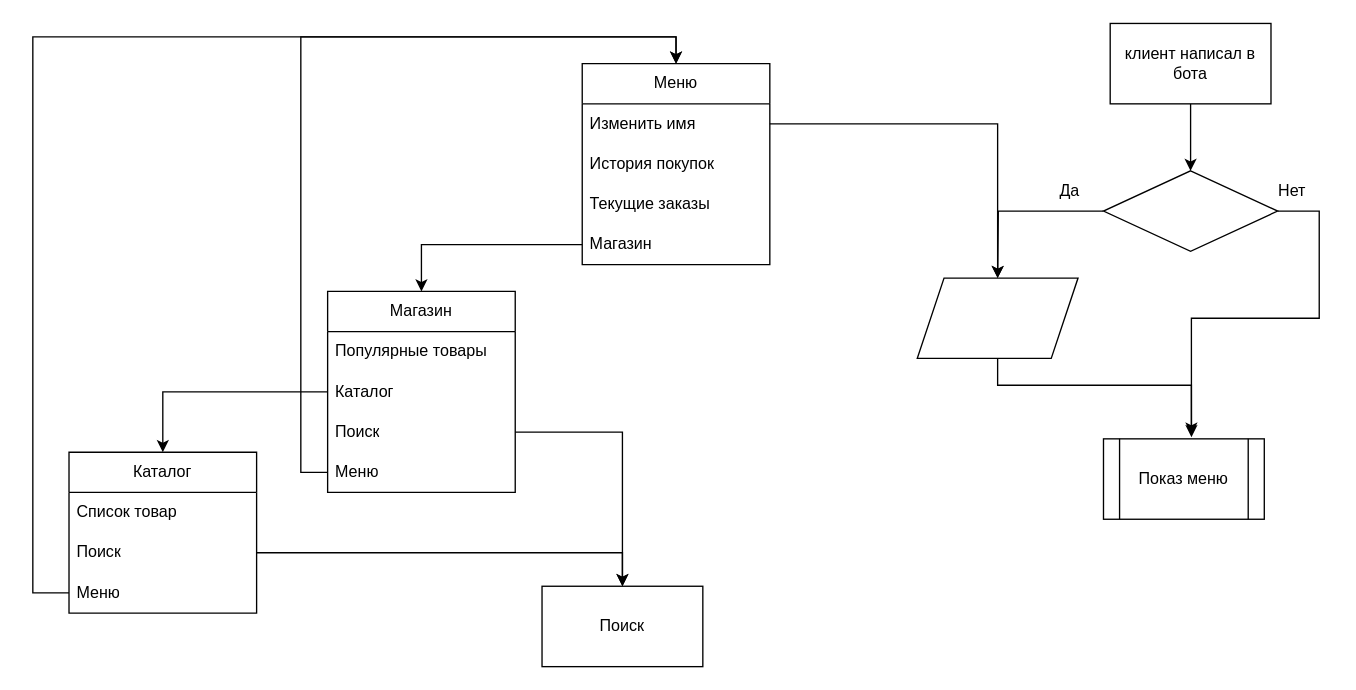
Some shapes in this 1356 by 690 pixel diagram are drawn without their labels. Each missing label, with the centre of its shape:
Ваш ник в игре: [997,317]
Первый раз?: [1190,210]
